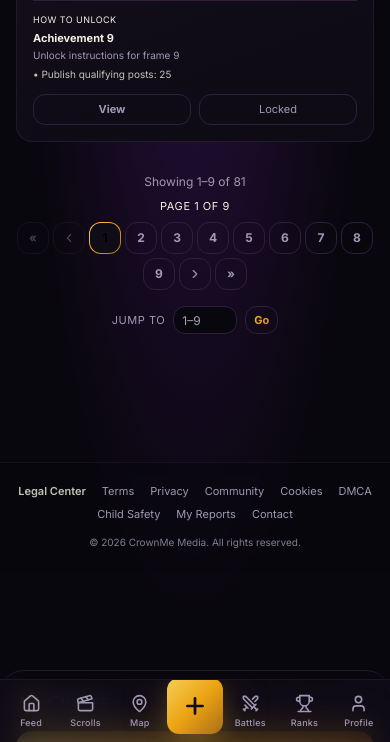
it: RoyalFrames — 81-frame catalog › supports the jump-to-page control
(page scrolled)
Type "7" into the number field named "jump to page number". click: (205, 320)
box: 173,306 -> 237,334
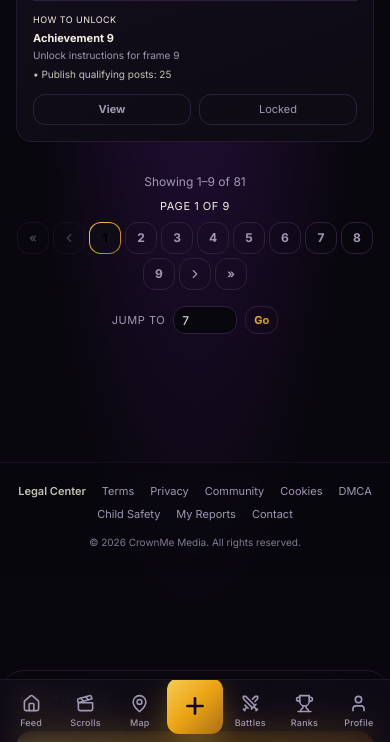
Click the button "Go". click: (262, 320)
box: 245,306 -> 278,334
(page scrolled)
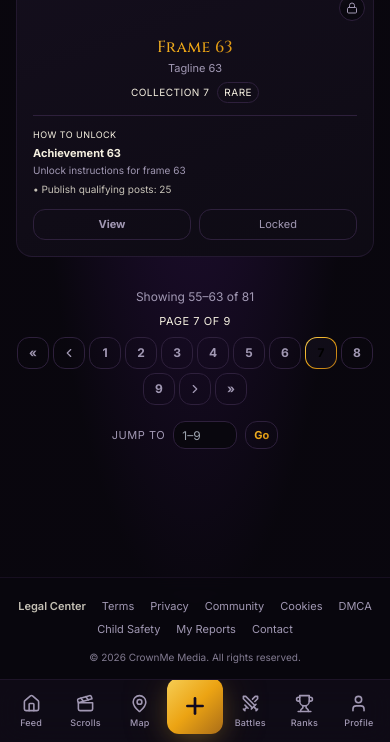
expect the text with test id "pagination-page" reads "Page 7 of 9": met, box 159,313 -> 231,329
